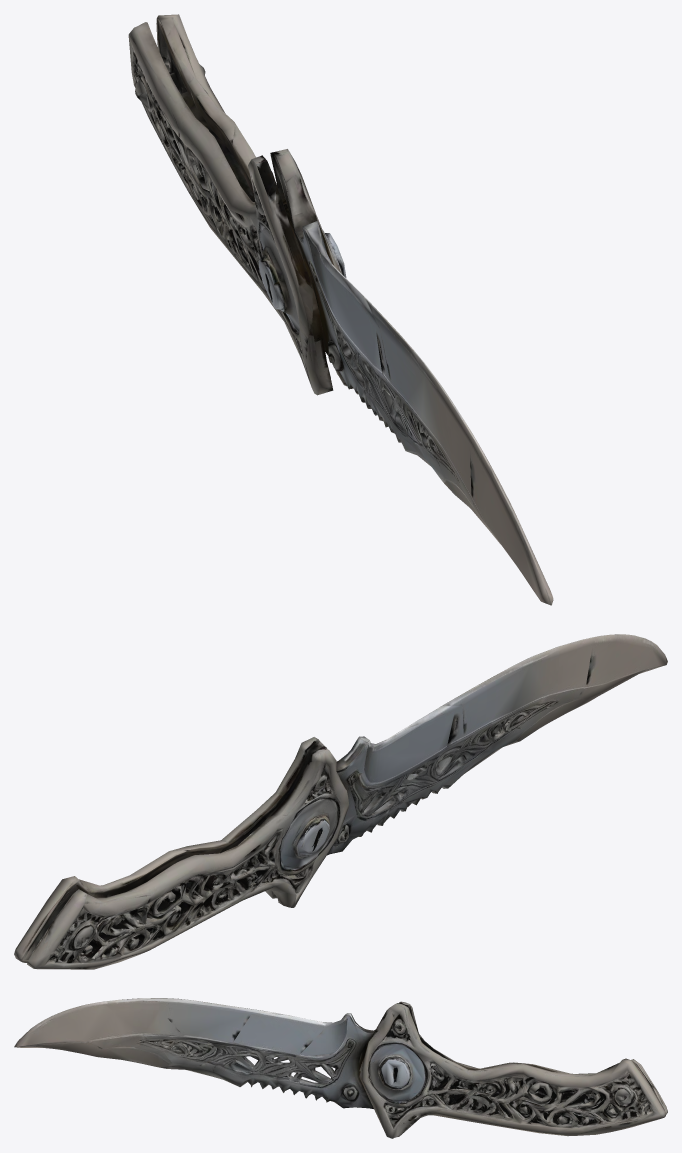
File: knife.glb
3 renders of one model, top to bottom at view 1: azimuth 30°, elevation 25°; view 2: azimuth 150°, elevation 25°; view 3: azimuth 270°, elevation 25°, orthographic. The views are drawn at different scales.
Parts seen in each view (by area): view 1: K98_Bayonet2; view 2: K98_Bayonet2; view 3: K98_Bayonet2.
Part boxes in pixels (x1=…): K98_Bayonet2: x1=128, y1=14, x2=553, y2=605; K98_Bayonet2: x1=14, y1=634, x2=667, y2=969; K98_Bayonet2: x1=14, y1=998, x2=667, y2=1138.
Bounding box in the file's own units: 0.00252 × 0.00213 × 0.0102.
1 material, 1 textured.
